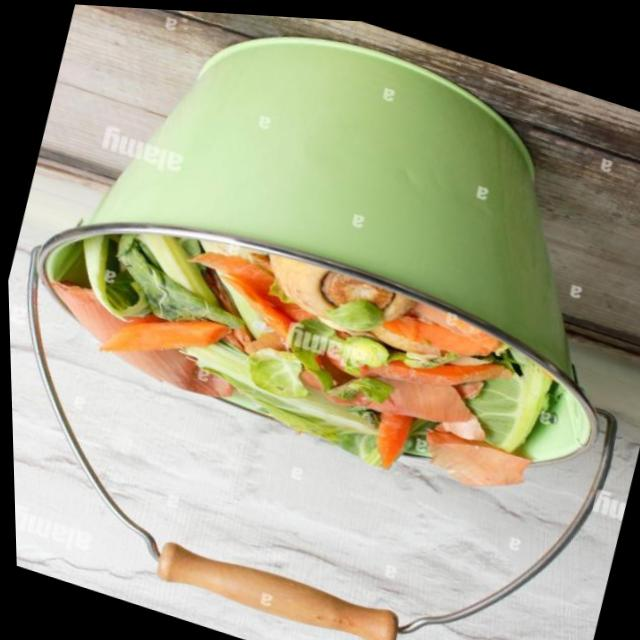Dry: (38, 2, 640, 364), (8, 361, 564, 640)
Wet: (358, 290, 554, 449), (213, 301, 398, 462), (117, 218, 269, 333), (250, 243, 417, 344), (95, 286, 232, 386), (36, 224, 121, 340), (414, 419, 529, 497), (365, 402, 410, 469)
